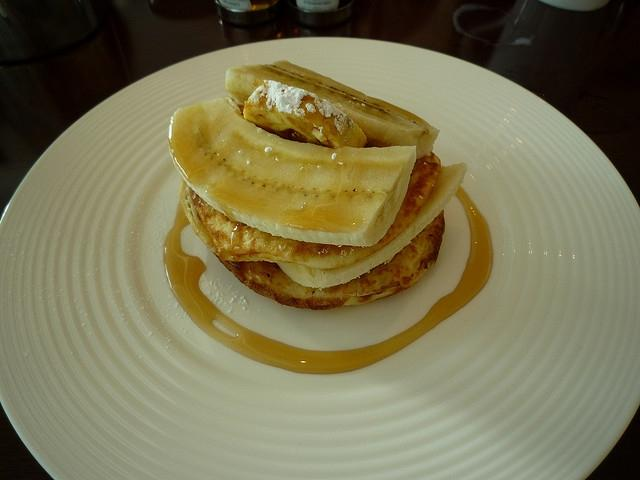banana: (168, 97, 417, 247), (276, 163, 466, 288), (227, 58, 440, 157)
